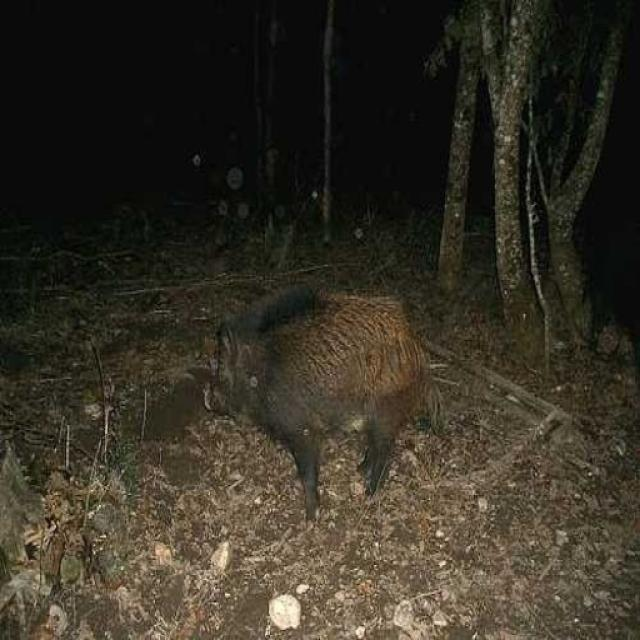pig: (184, 270, 421, 530)
